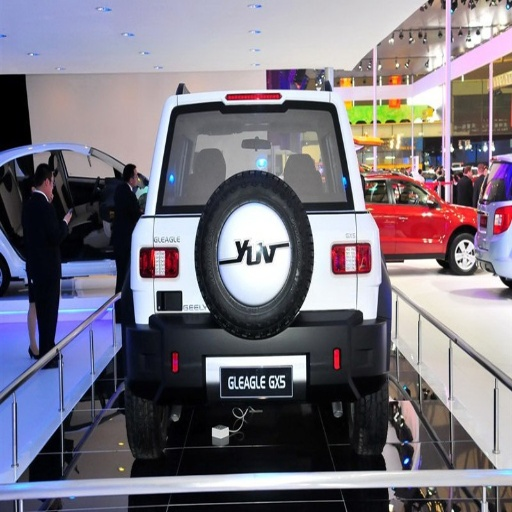trunk: (153, 107, 358, 295)
